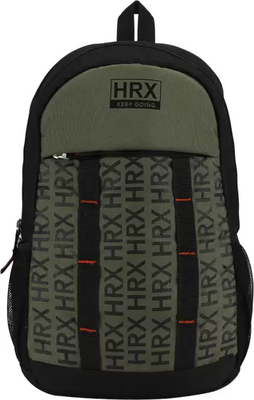backpack: (1, 0, 253, 399)
